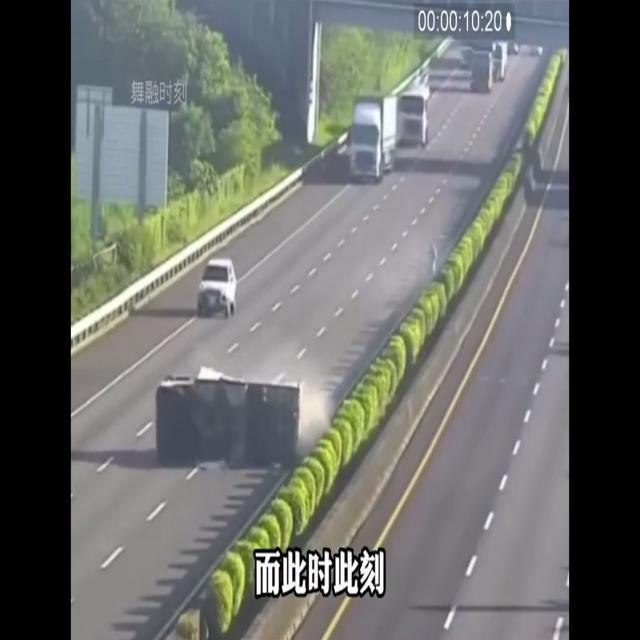accident: (155, 364, 331, 476)
non-accident: (346, 80, 432, 186), (468, 42, 509, 94)
